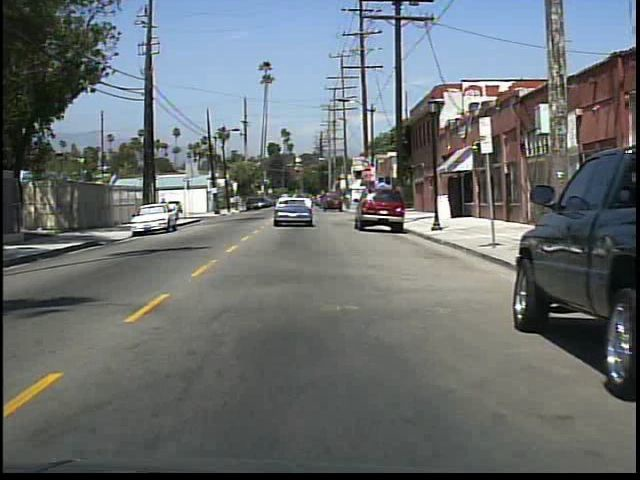person: (171, 199, 183, 221)
